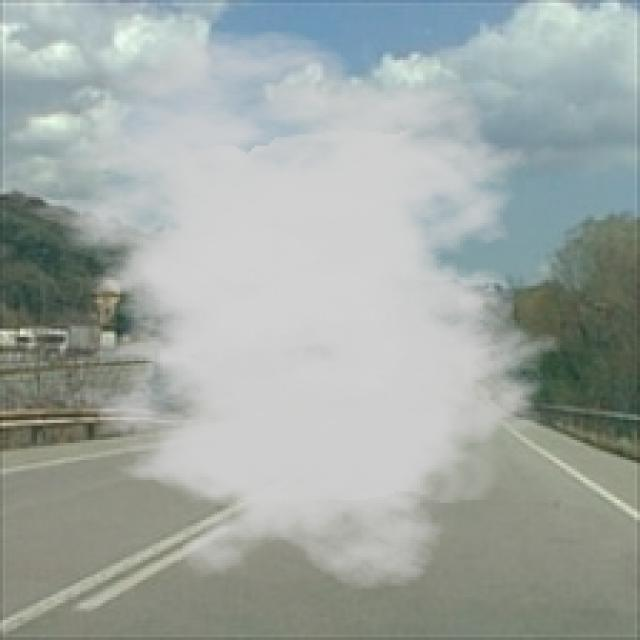smoke: (3, 29, 571, 592)
